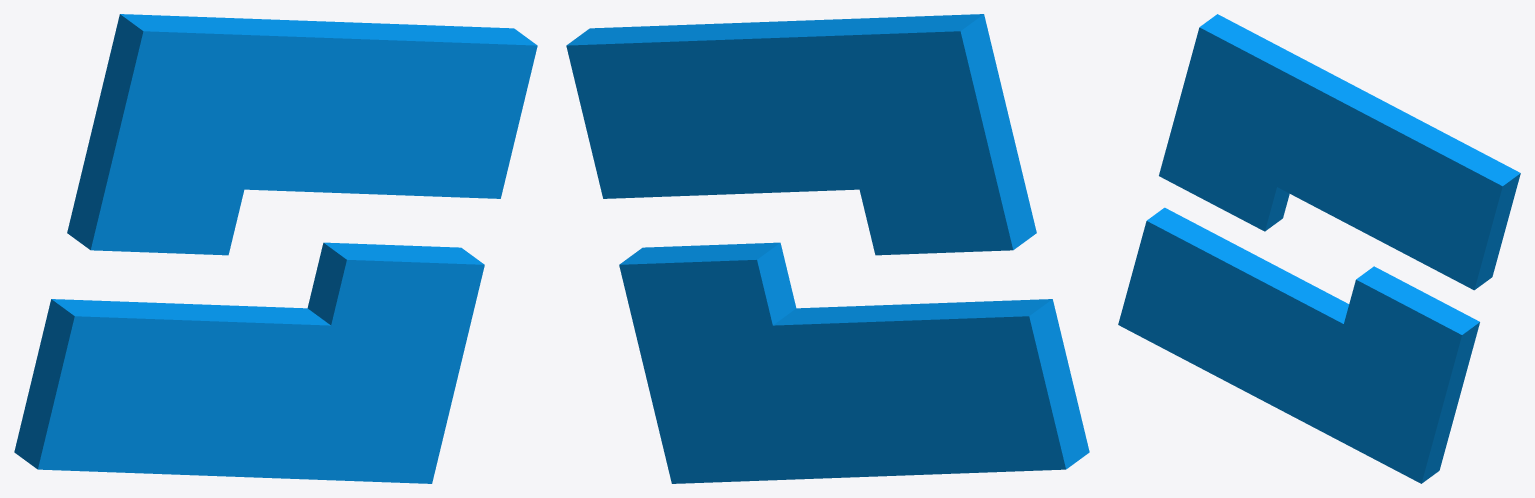
File: Roblox_studio.glb
The picture shows the model from 3 angles, left to right: view 1: azimuth 30°, elevation 25°; view 2: azimuth 150°, elevation 25°; view 3: azimuth 330°, elevation 25°; orthographic projection. The views are drawn at different scales.
Visible parts, largest first — view 1: Object_2; view 2: Object_2; view 3: Object_2.
Boxes of the visible parts, box(x1,y1,x2,y2) form: Object_2: box(14, 14, 537, 483); Object_2: box(566, 14, 1089, 483); Object_2: box(1118, 14, 1520, 483).
Bounding box in the file's own units: 24.49 × 24.49 × 2.
